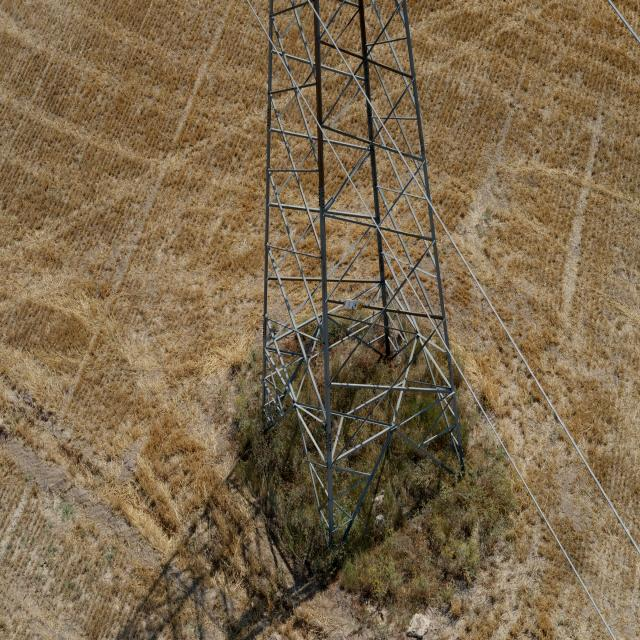voltage_line: (259, 0, 466, 538)
